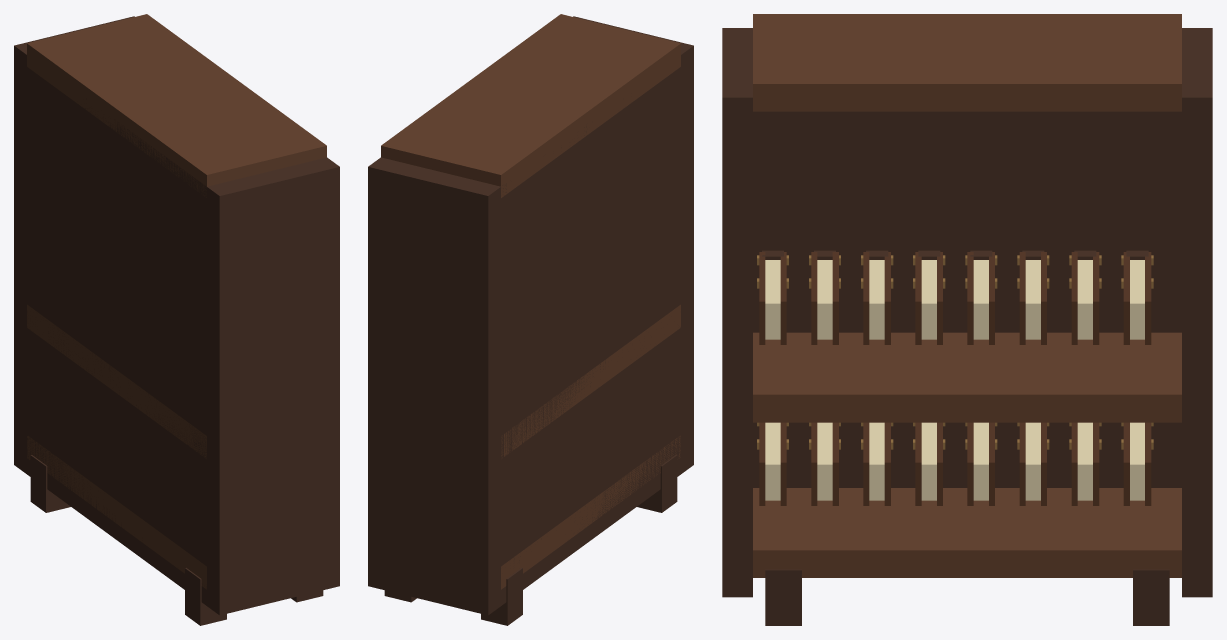
The model's file is BookPress__Shelf.fbx.
3 renders of one model, left to right at view 1: azimuth 30°, elevation 25°; view 2: azimuth 150°, elevation 25°; view 3: azimuth 270°, elevation 25°, orthographic. The views are drawn at different scales.
Parts seen in each view (by area): view 1: BookPress__Shelf; view 2: BookPress__Shelf; view 3: BookPress__Shelf.
Part boxes in pixels (x1,y1,x2,y2): BookPress__Shelf: (14,14,339,625); BookPress__Shelf: (368,14,693,625); BookPress__Shelf: (722,14,1212,625).
Size of the model in its own units: 55.2 by 195 by 160.
1 material, 1 textured.
